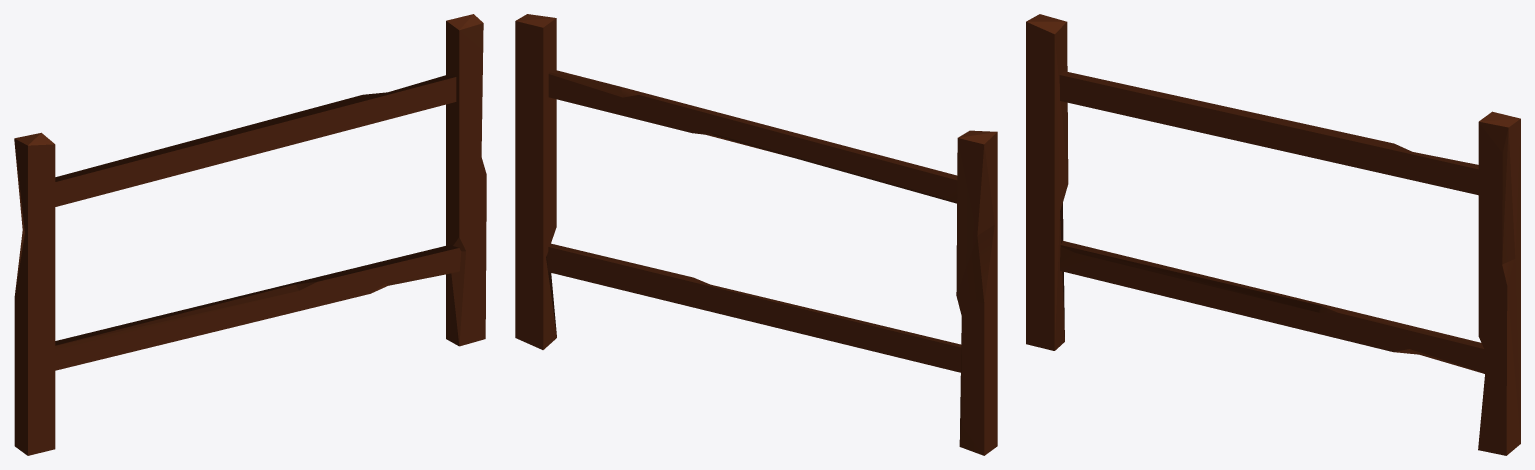
File: SM_fence_wooden_01.fbx
The picture shows the model from 3 angles, left to right: view 1: azimuth 30°, elevation 25°; view 2: azimuth 150°, elevation 25°; view 3: azimuth 330°, elevation 25°; orthographic projection. The views are drawn at different scales.
Parts seen in each view (by area): view 1: Object115; view 2: Object115; view 3: Object115.
Part boxes in pixels (x1=…): Object115: x1=14, y1=14, x2=486, y2=455; Object115: x1=515, y1=14, x2=997, y2=455; Object115: x1=1026, y1=14, x2=1520, y2=455.
Size of the model in its own units: 52.31 by 2.98 by 34.51.
